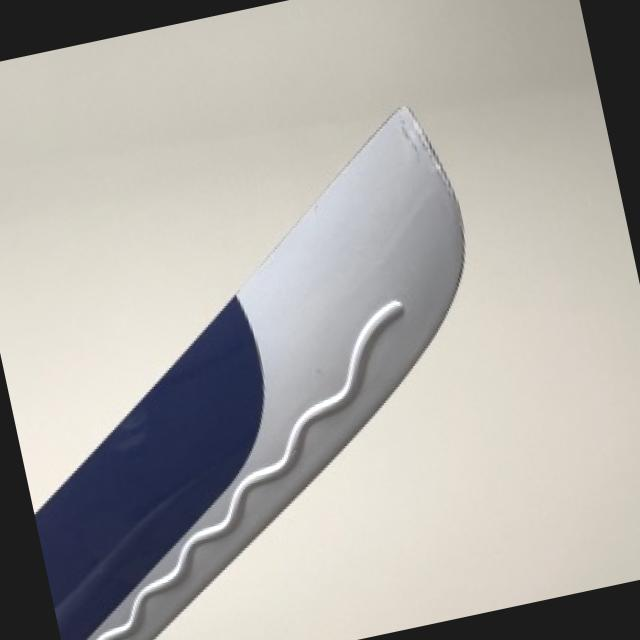healthy: (37, 107, 465, 640)
